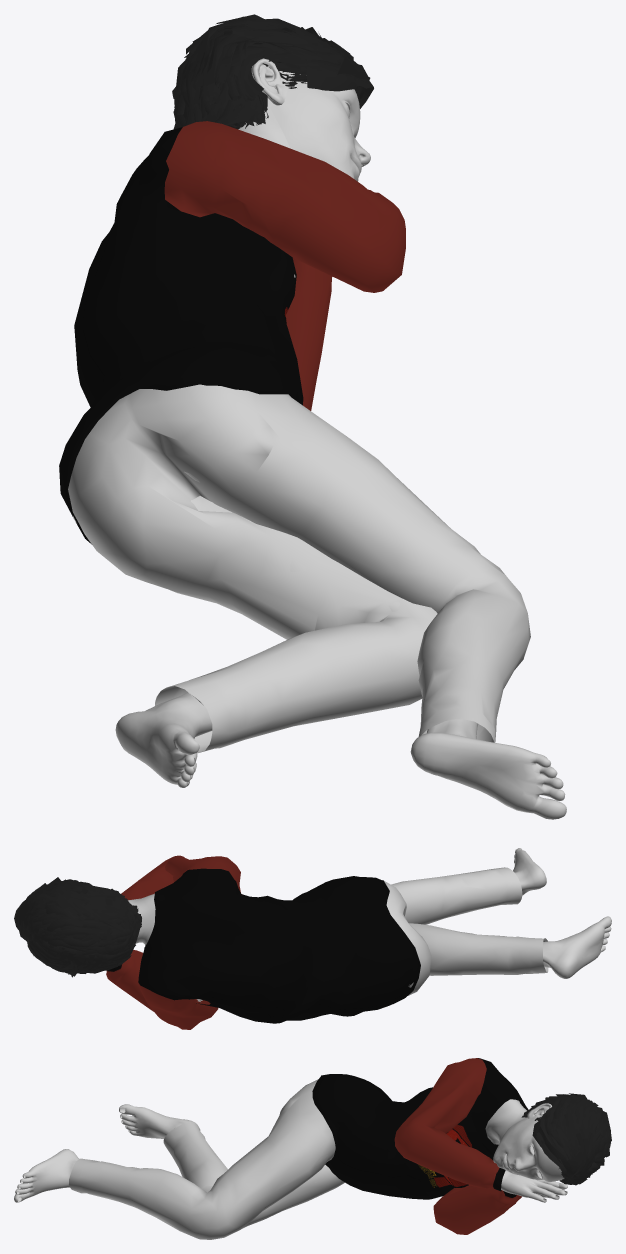
File: child.gltf
The picture shows the model from 3 angles, top to bottom: view 1: azimuth 30°, elevation 25°; view 2: azimuth 150°, elevation 25°; view 3: azimuth 270°, elevation 25°; orthographic projection. The views are drawn at different scales.
Parts seen in each view (by area): view 1: --5_53226.Shape.001; view 2: --5_53226.Shape.001; view 3: --5_53226.Shape.001.
Part boxes in pixels (<box>): --5_53226.Shape.001: <box>59,14,566,819</box>; --5_53226.Shape.001: <box>14,848,611,1029</box>; --5_53226.Shape.001: <box>14,1058,611,1239</box>.
Bounding box in the file's own units: 0.7719 × 0.4294 × 1.27.
